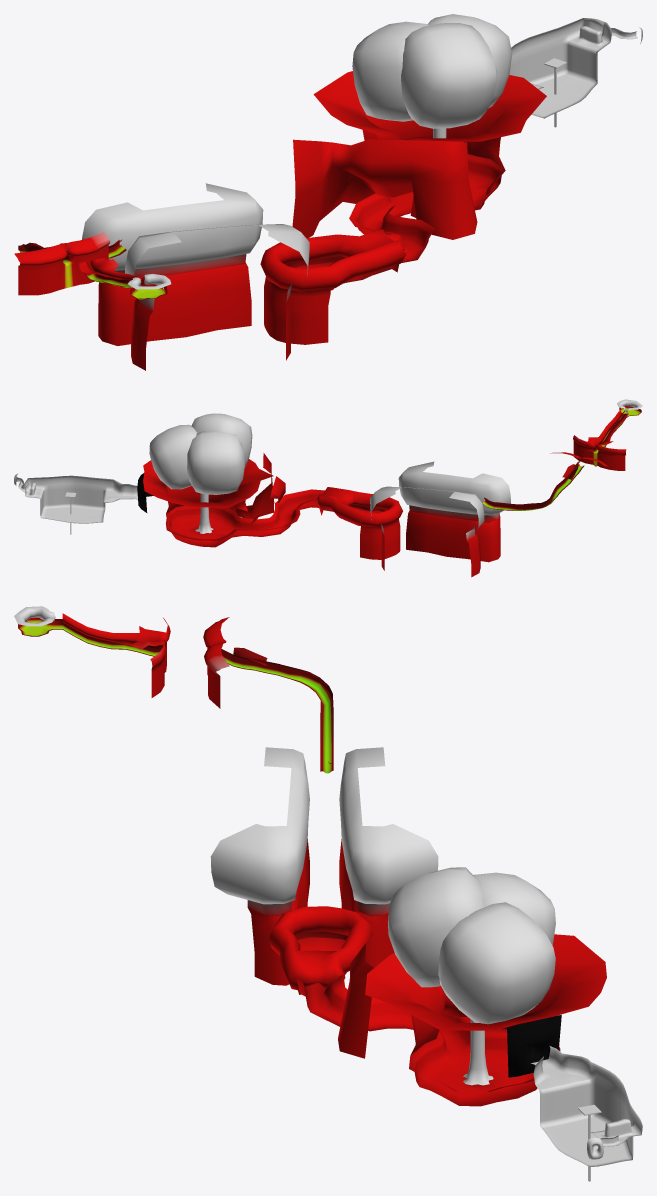
The model's file is CrocLevel2.glb.
3 renders of one model, top to bottom at view 1: azimuth 30°, elevation 25°; view 2: azimuth 150°, elevation 25°; view 3: azimuth 270°, elevation 25°, orthographic. The views are drawn at different scales.
Parts seen in each view (by area): view 1: Plane.002, Cube, BigTree, CavePart2, Plane.001, Plane, Cave; view 2: Plane.002, Cube, BigTree, CavePart2, Plane, Cave, Plane.001; view 3: Plane.002, BigTree, Cube, Cave, Plane.001, Plane, CavePart2.
Boxes of the visible parts, x1=… form: Plane.002: x1=260, y1=71, x2=546, y2=344; Cube: x1=82, y1=183, x2=309, y2=370; BigTree: x1=352, y1=14, x2=512, y2=138; CavePart2: x1=519, y1=18, x2=642, y2=104; Plane.001: x1=14, y1=232, x2=126, y2=295; Plane: x1=79, y1=257, x2=171, y2=299; Cave: x1=509, y1=41, x2=573, y2=118; Plane.002: x1=137, y1=453, x2=402, y2=559; Cube: x1=370, y1=461, x2=510, y2=577; BigTree: x1=149, y1=413, x2=252, y2=533; CavePart2: x1=14, y1=473, x2=78, y2=523; Plane: x1=573, y1=399, x2=642, y2=470; Cave: x1=76, y1=476, x2=137, y2=523; Plane.001: x1=482, y1=452, x2=608, y2=510; Plane.002: x1=268, y1=906, x2=606, y2=1106; BigTree: x1=388, y1=867, x2=555, y2=1085; Cube: x1=210, y1=747, x2=438, y2=985; Cave: x1=531, y1=1046, x2=621, y2=1145; Plane.001: x1=203, y1=617, x2=333, y2=773; Plane: x1=14, y1=606, x2=170, y2=697; CavePart2: x1=555, y1=1080, x2=642, y2=1166.
Bounding box in the file's own units: 819 × 208 × 505.
